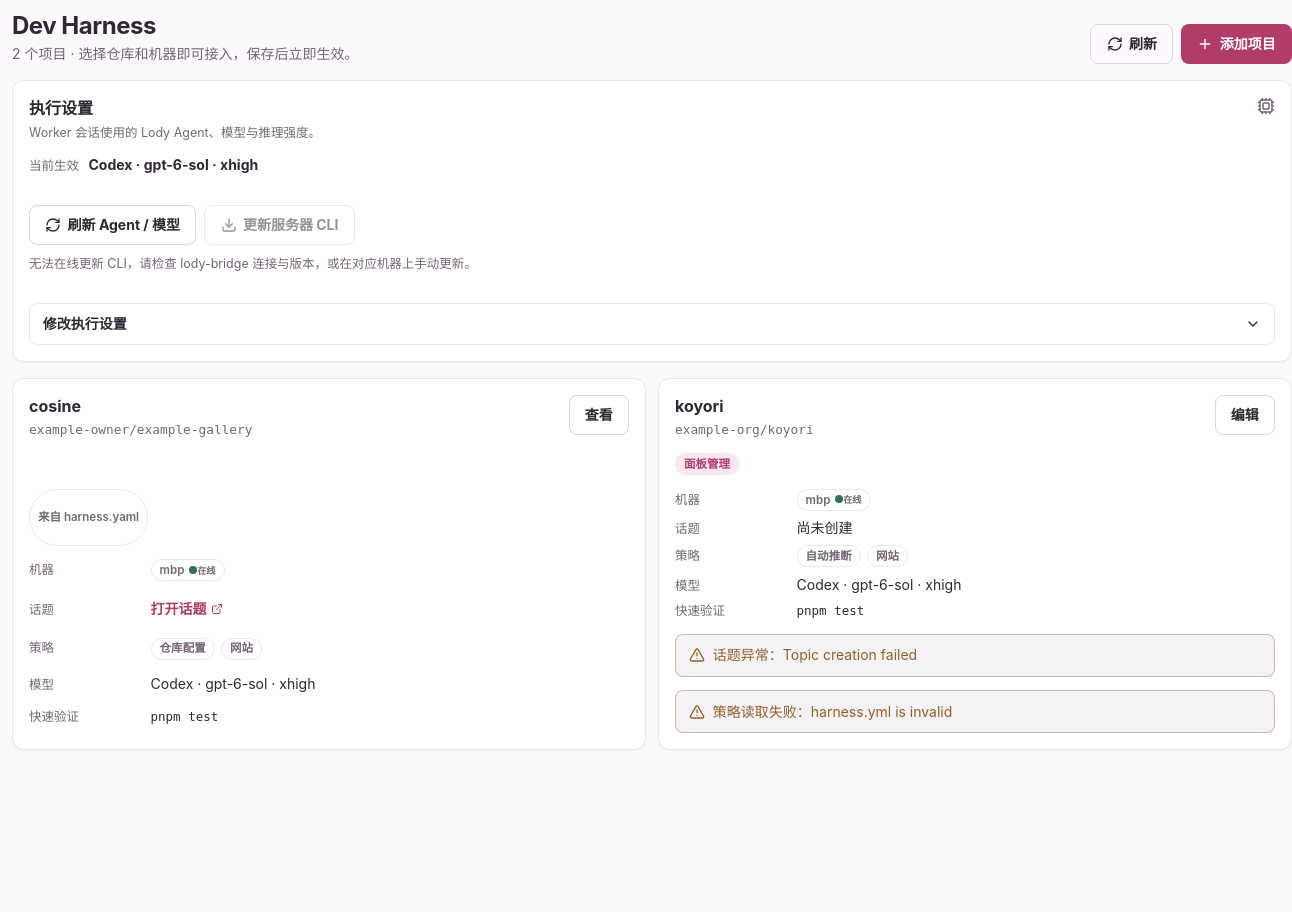
shows refresh failures while CLI updates remain unavailable
The image size is (1292, 912).
Check: the button "更新服务器 CLI" is disabled, box [204,205,355,245]
Click the button "刷新 Agent / 模型" at [113, 225], box [29,205,196,245]
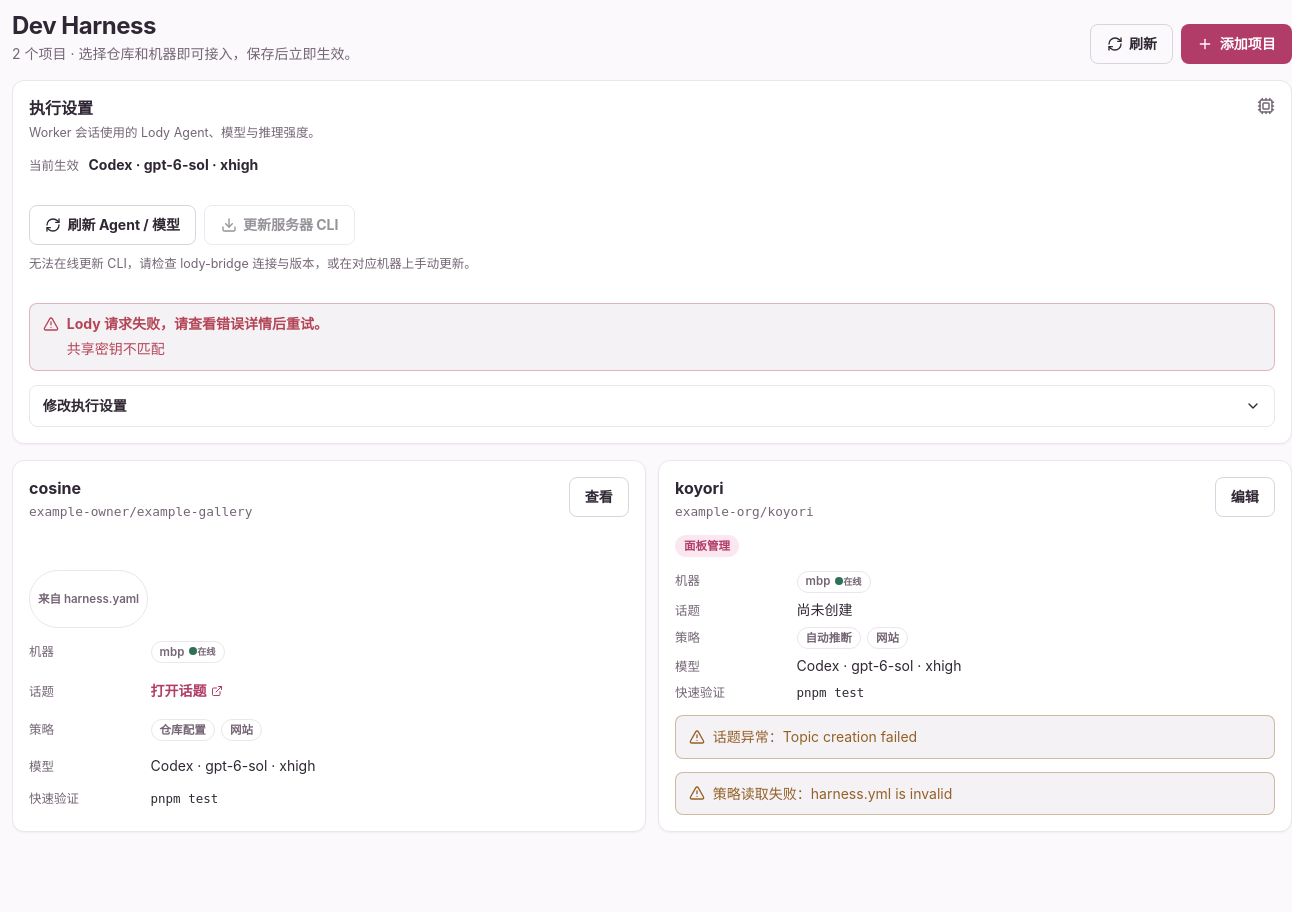
Check: the text "共享密钥不匹配" is shown, box [67,340,165,357]
